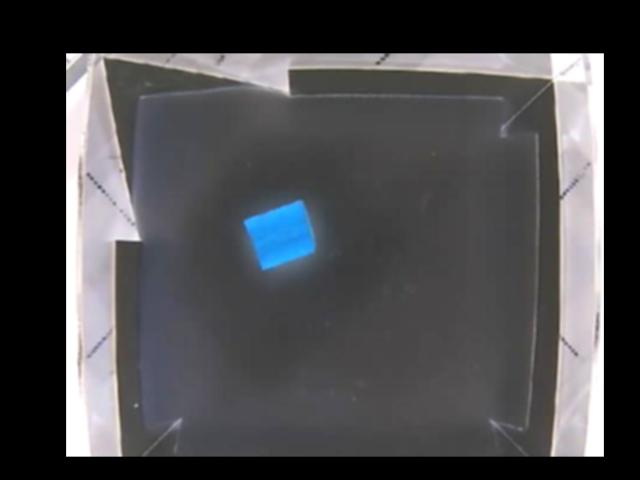Carrot: (243, 198, 318, 270)
